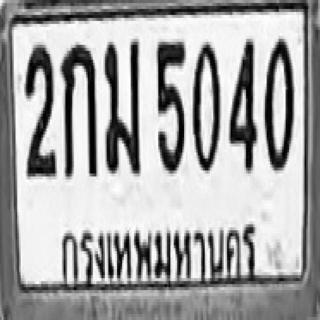A01: (61, 42, 96, 176)
A33: (103, 38, 139, 172)
N00: (263, 37, 292, 169), (190, 39, 219, 170)
N02: (24, 44, 55, 175)
N04: (227, 36, 256, 168)
N05: (155, 39, 184, 170)
P04: (58, 210, 264, 293)
